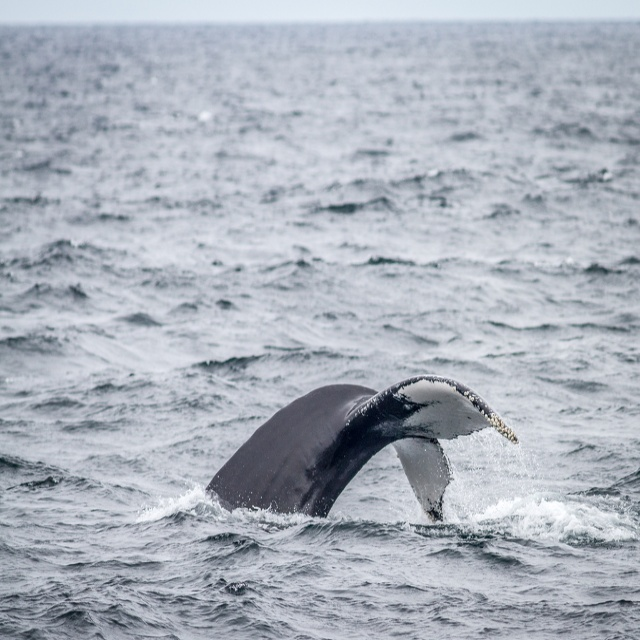Whale: (205, 374, 519, 523)
